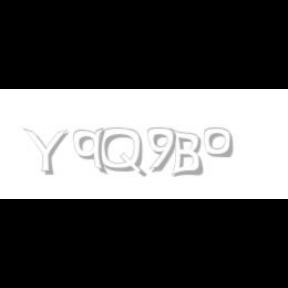9: (148, 128, 176, 172)
B: (169, 128, 203, 178)
Q: (99, 128, 145, 178)
Y: (22, 128, 68, 176)
o: (204, 128, 232, 158)
q: (73, 128, 109, 176)
